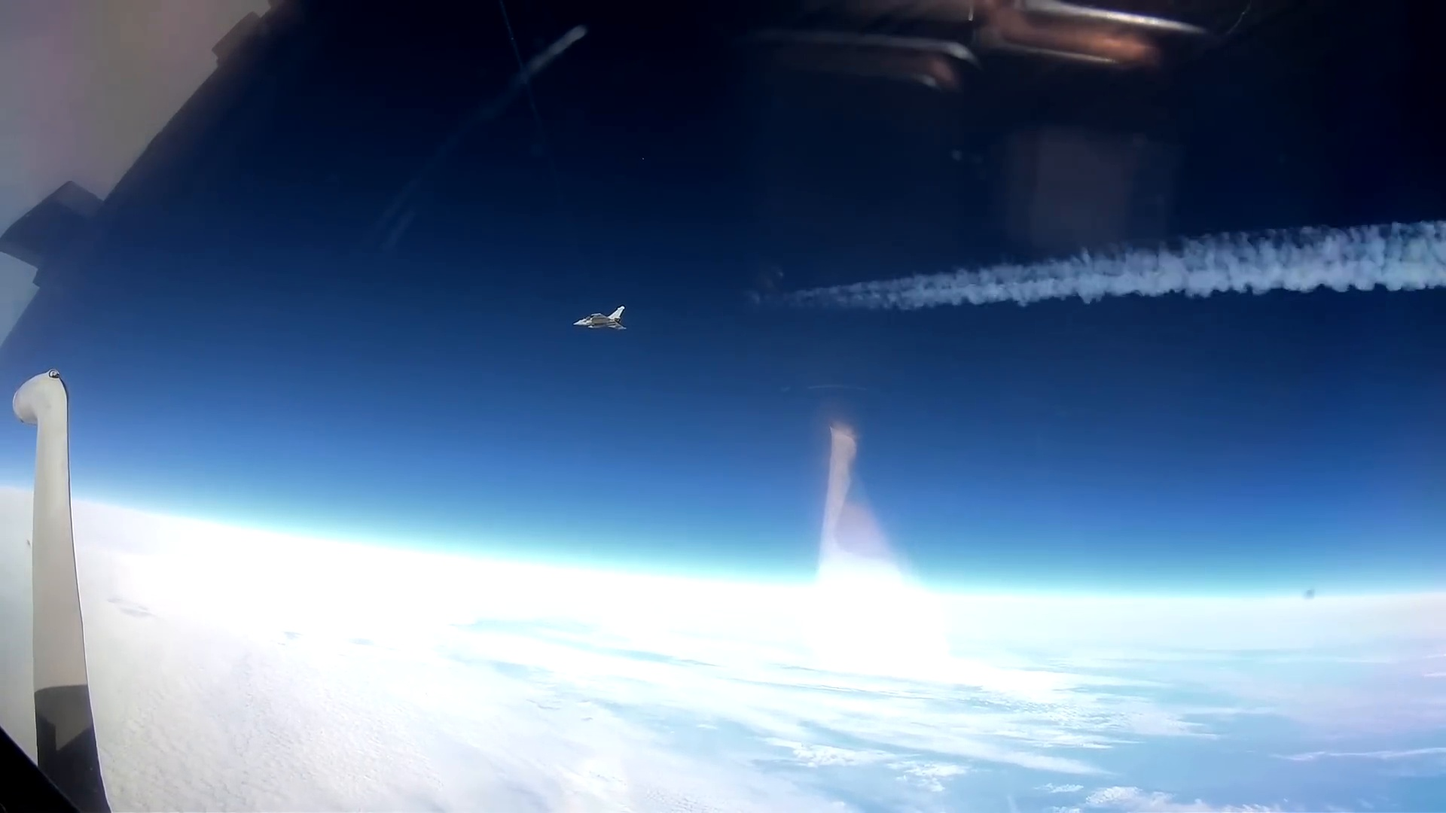Rafale: (574, 304, 626, 330)
